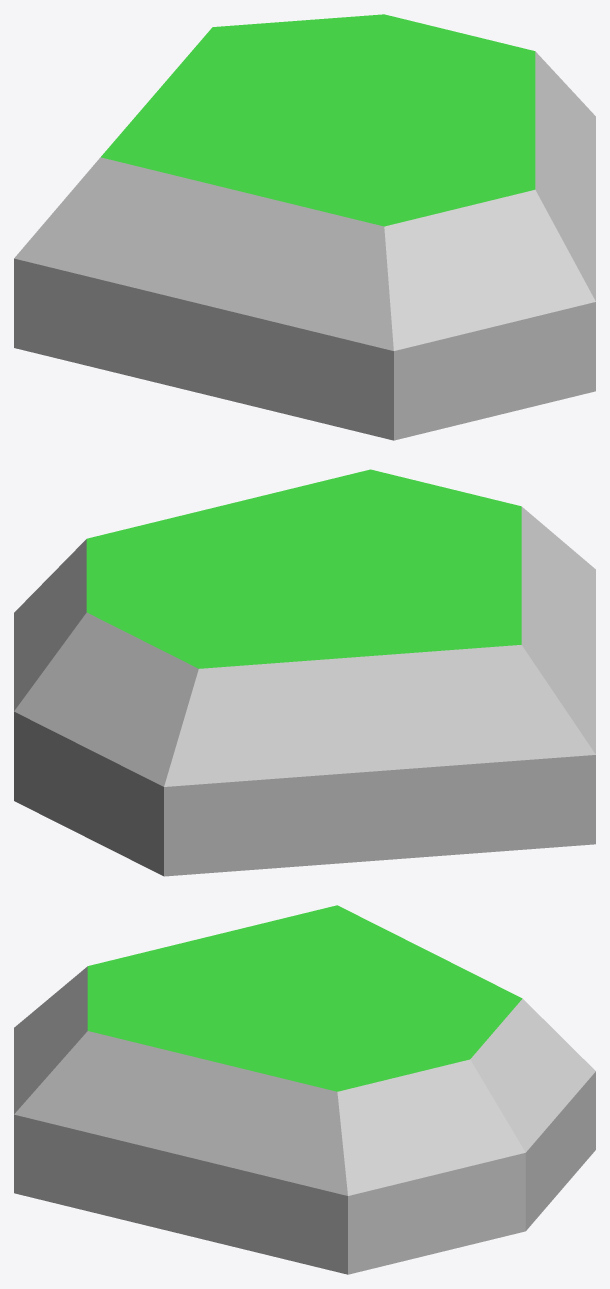
File: bouncerock 1.fbx
The picture shows the model from 3 angles, top to bottom: view 1: azimuth 30°, elevation 25°; view 2: azimuth 150°, elevation 25°; view 3: azimuth 270°, elevation 25°; orthographic projection. The views are drawn at different scales.
Parts seen in each view (by area): view 1: Rock_Type4_04_mesh; view 2: Rock_Type4_04_mesh; view 3: Rock_Type4_04_mesh.
Part boxes in pixels (<box>): Rock_Type4_04_mesh: <box>14,14,595,440</box>; Rock_Type4_04_mesh: <box>14,469,595,876</box>; Rock_Type4_04_mesh: <box>14,905,595,1274</box>.
Bounding box in the file's own units: 118 × 34.14 × 117.
